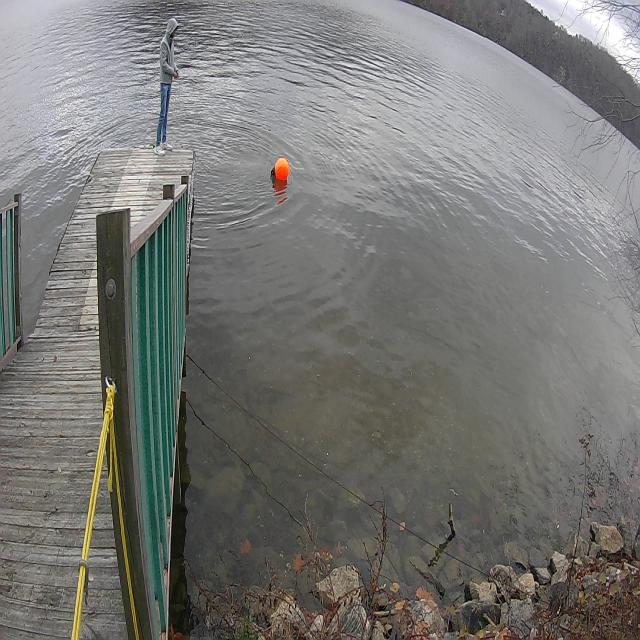Buoy: (266, 142, 294, 196)
